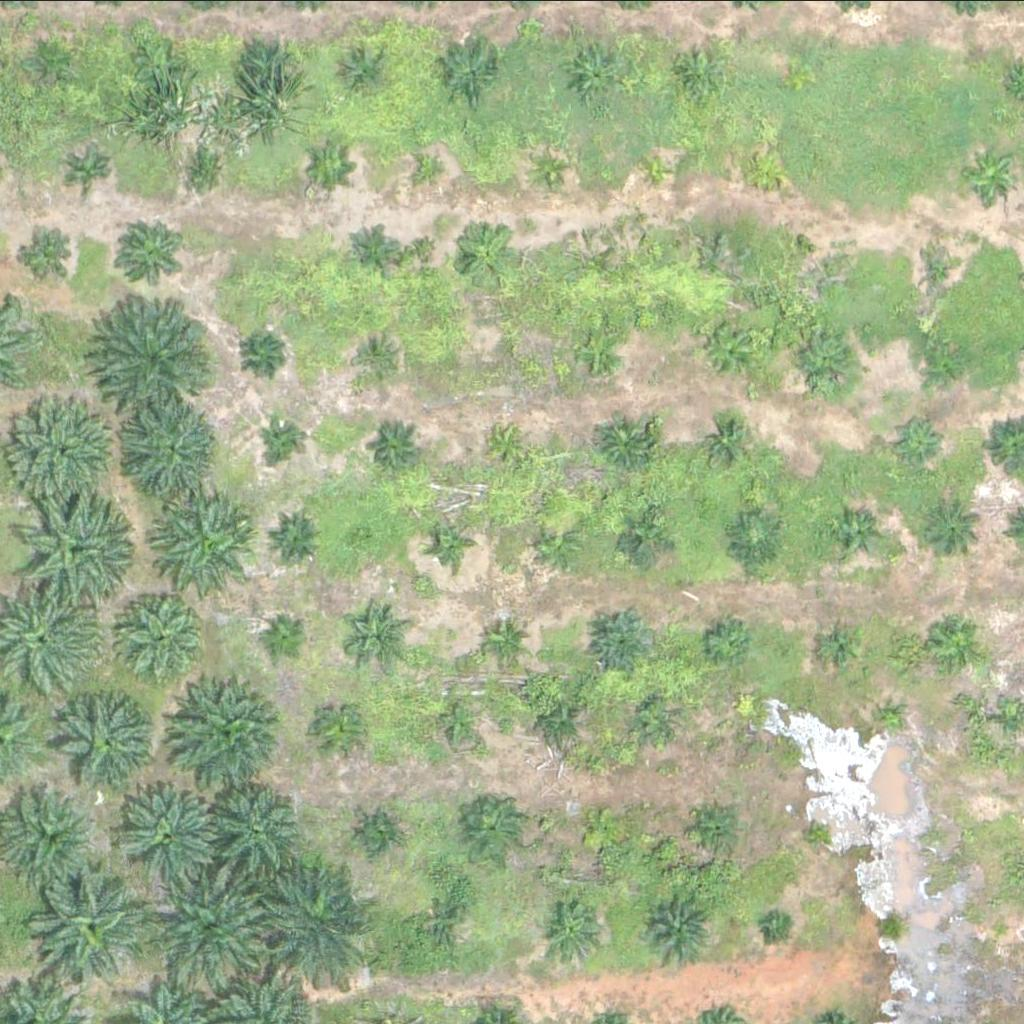Kelapa_Sawit: (13, 483, 139, 608), (144, 865, 270, 990), (255, 857, 381, 982), (94, 287, 219, 412), (175, 678, 289, 791), (7, 398, 120, 511), (105, 778, 219, 890), (25, 868, 139, 980), (157, 490, 270, 602), (118, 401, 219, 501), (112, 587, 213, 687), (57, 694, 157, 794), (216, 784, 304, 872), (641, 893, 717, 968), (110, 213, 185, 288), (922, 492, 985, 555), (355, 607, 418, 670), (309, 701, 372, 764), (793, 334, 856, 397), (438, 35, 501, 98), (591, 605, 654, 668), (568, 39, 631, 102), (238, 34, 301, 97), (426, 690, 489, 753), (464, 798, 527, 860), (543, 898, 606, 960), (595, 411, 658, 473), (696, 317, 759, 379), (456, 221, 519, 283), (413, 894, 476, 956), (730, 511, 781, 561), (342, 43, 393, 93), (612, 513, 663, 563), (534, 693, 585, 743), (27, 224, 78, 274), (136, 36, 187, 86), (477, 617, 528, 667), (628, 692, 679, 742), (355, 813, 406, 863), (574, 804, 625, 854), (701, 616, 752, 666), (701, 418, 752, 468), (916, 244, 967, 294), (914, 332, 965, 382), (891, 414, 942, 464), (833, 506, 884, 556), (270, 513, 320, 563), (935, 617, 985, 667), (368, 419, 418, 469), (669, 49, 719, 99), (347, 223, 397, 273), (572, 323, 622, 373), (532, 520, 582, 570), (265, 612, 315, 662), (695, 798, 745, 848), (818, 621, 868, 671), (312, 141, 350, 179), (240, 334, 278, 372), (29, 41, 67, 79), (413, 148, 451, 186), (532, 150, 570, 188), (639, 148, 677, 186), (739, 152, 777, 190), (486, 426, 524, 464), (431, 523, 469, 561), (266, 418, 304, 455), (364, 341, 402, 378), (493, 329, 531, 366), (791, 246, 829, 283), (74, 151, 111, 188), (184, 147, 221, 184), (764, 914, 790, 939), (875, 709, 900, 734), (802, 821, 827, 846), (991, 915, 1016, 940)
